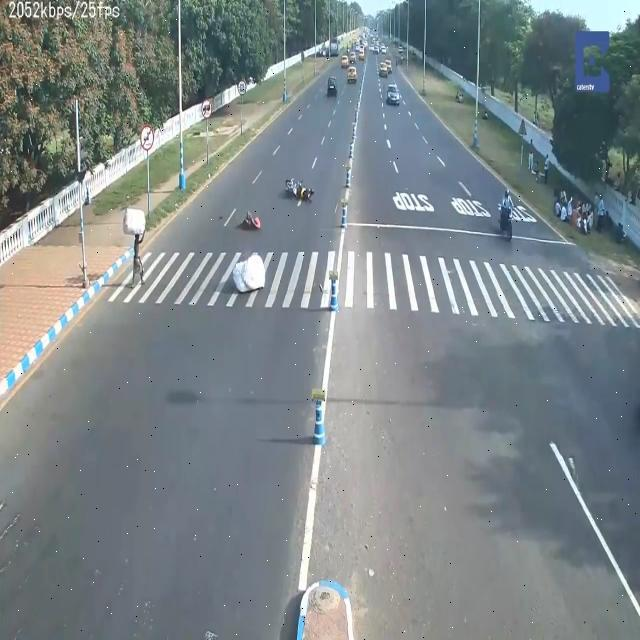accident: (278, 173, 321, 212), (235, 205, 268, 239)
